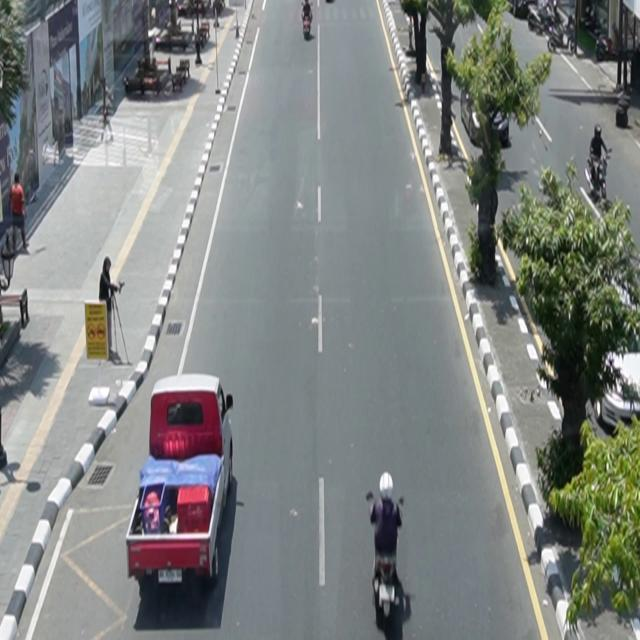truck: (126, 373, 235, 588)
